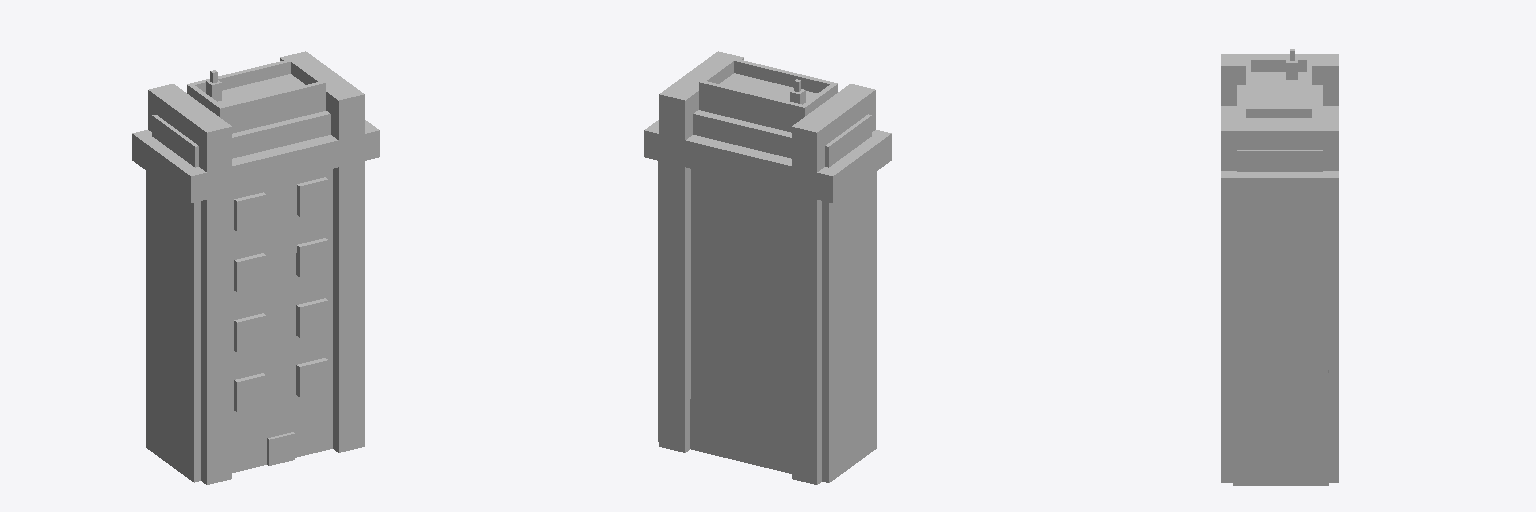
Rendered from building9.obj.
3 renders of one model, left to right at view 1: azimuth 30°, elevation 25°; view 2: azimuth 150°, elevation 25°; view 3: azimuth 270°, elevation 25°, orthographic.
Visible parts, largest first — view 1: polySurface815 city; view 2: polySurface815 city; view 3: polySurface815 city.
Boxes of the visible parts, <box> form: polySurface815 city: <box>132,51,379,484</box>; polySurface815 city: <box>644,51,891,484</box>; polySurface815 city: <box>1221,49,1338,485</box>.
Bounding box in the file's own units: 7.35 × 14.02 × 3.96.